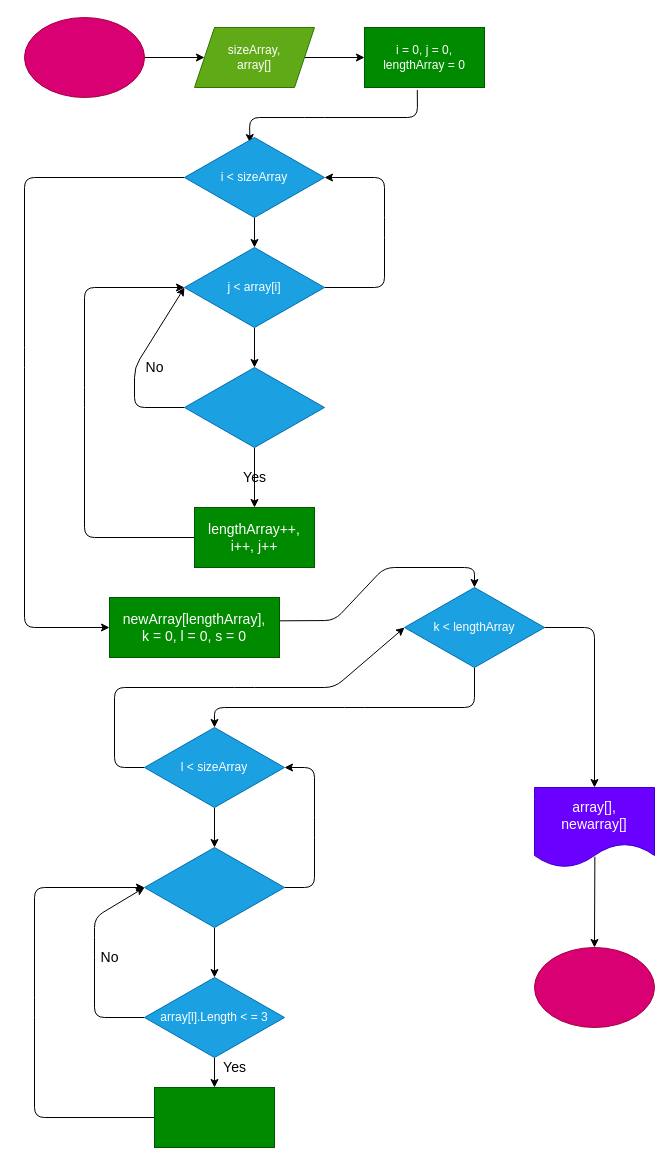
The diagram is 672 pixels wide and 1165 high, and some of its shapes have lost their labels. Here are the shapes that lost their labels. From the top down, the centre of each, then its label:
the point at 84,57: START
the point at 254,407: array[i] < = 3
the point at 214,887: s < array[l].length
the point at 594,987: END
the point at 214,1117: newArray[k] = array[l]
